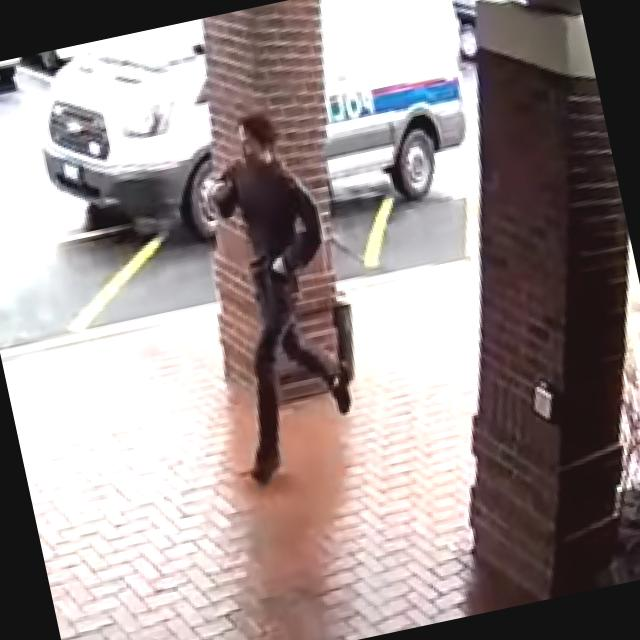person: (175, 102, 372, 484)
